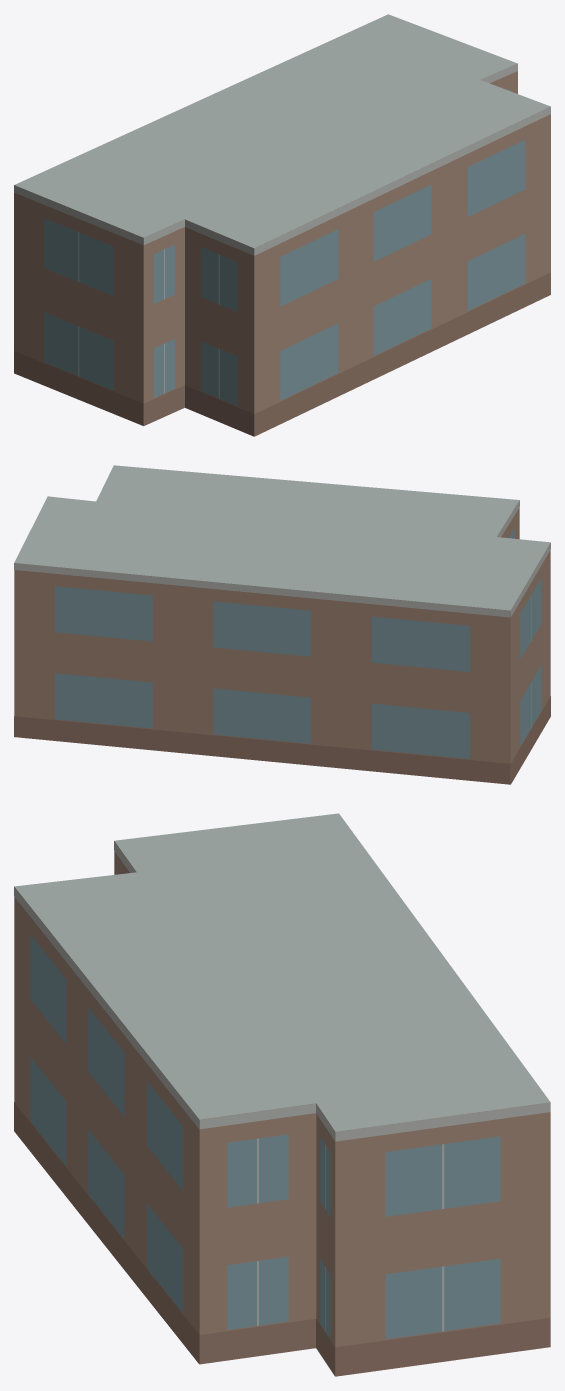
Rendered from survey-upis-32878890.glb.
The picture shows the model from 3 angles, top to bottom: view 1: azimuth 30°, elevation 25°; view 2: azimuth 150°, elevation 25°; view 3: azimuth 270°, elevation 25°; orthographic projection. The views are drawn at different scales.
Visible parts, largest first — view 1: survey-upis-32878890.tmp; view 2: survey-upis-32878890.tmp; view 3: survey-upis-32878890.tmp.
Boxes of the visible parts, bbox=[...] form: survey-upis-32878890.tmp: bbox=[14, 14, 550, 436]; survey-upis-32878890.tmp: bbox=[14, 465, 550, 784]; survey-upis-32878890.tmp: bbox=[14, 813, 550, 1376].
Size of the model in its own units: 17.04 by 6.1 by 12.13.
